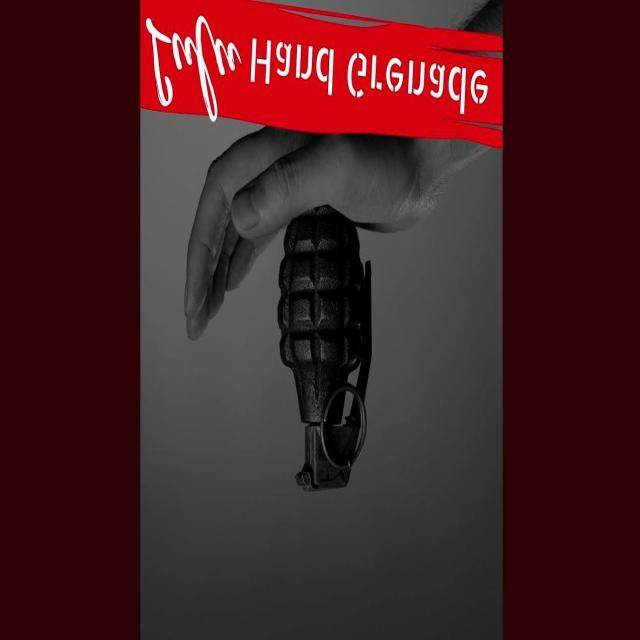grenade: (280, 205, 374, 494)
